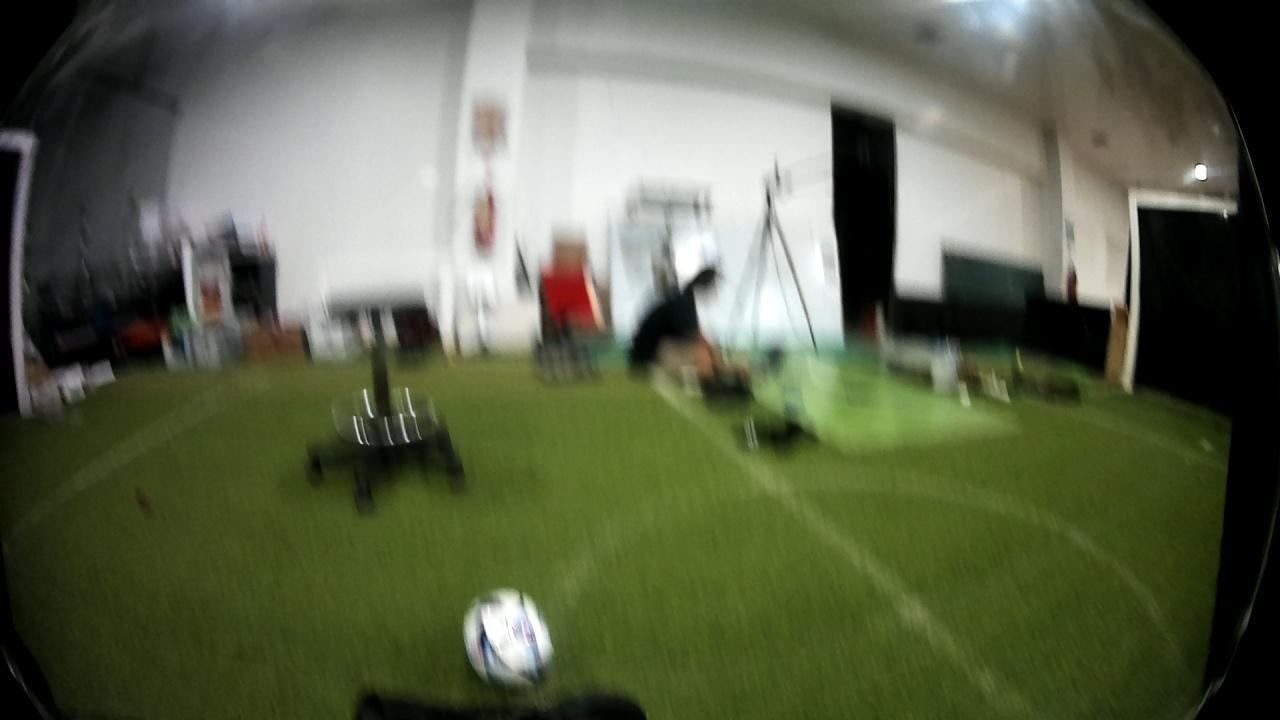ball: (455, 580, 560, 693)
